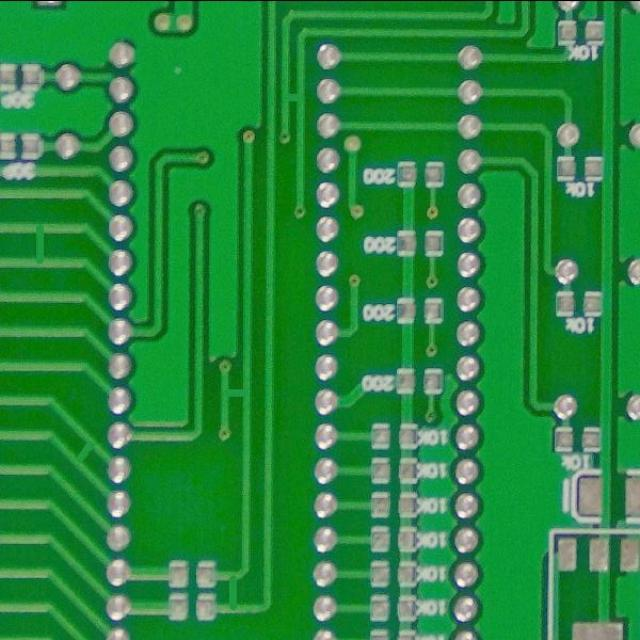Short_Circuit: (20, 214, 60, 276), (65, 429, 104, 472), (220, 564, 246, 620), (215, 376, 258, 409), (278, 83, 310, 113)
